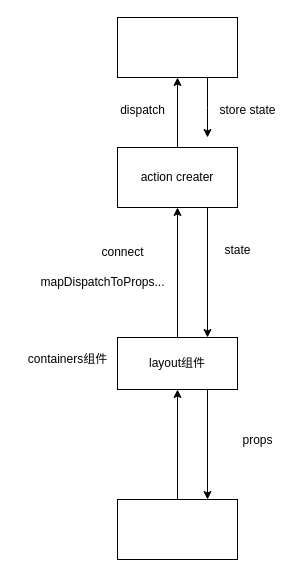
Image size: 304x577. Some labels were removed from this diagram. The shapes that lost their labels are listed below. From the top down, each one's box as (x1, y1, x2, y2) in pixels, then its label:
(116, 16, 238, 78): reducer
(116, 498, 238, 560): 子组件
